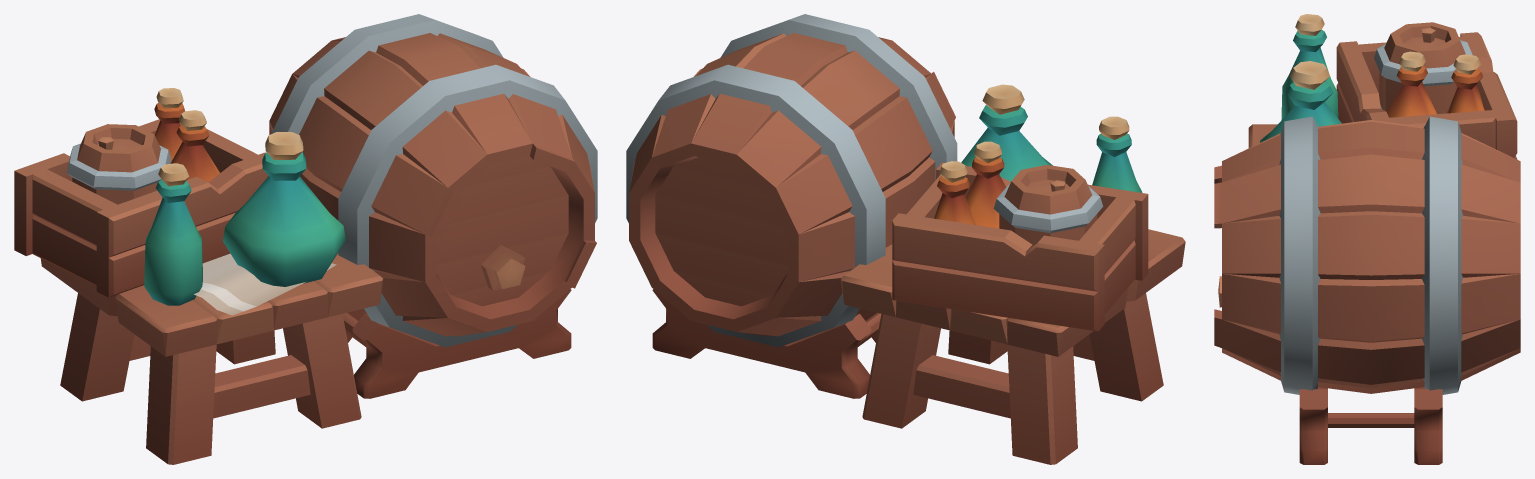
File: keg_decorated_gltf.glb
3 renders of one model, left to right at view 1: azimuth 30°, elevation 25°; view 2: azimuth 150°, elevation 25°; view 3: azimuth 270°, elevation 25°, orthographic. The views are drawn at different scales.
Visible parts, largest first — view 1: keg_decorated; view 2: keg_decorated; view 3: keg_decorated.
Part boxes in pixels (box(x1,y1,x2,y2)): keg_decorated: box(14, 14, 597, 464); keg_decorated: box(626, 14, 1185, 464); keg_decorated: box(1214, 14, 1520, 464).
Size of the model in its own units: 3.52 by 2.05 by 2.
Materials: 1 (1 with a texture image).
